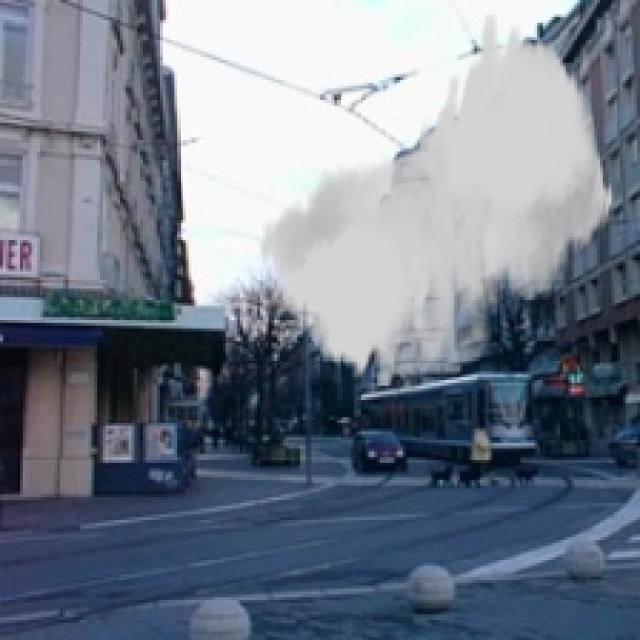Smoke: (257, 14, 614, 389)
